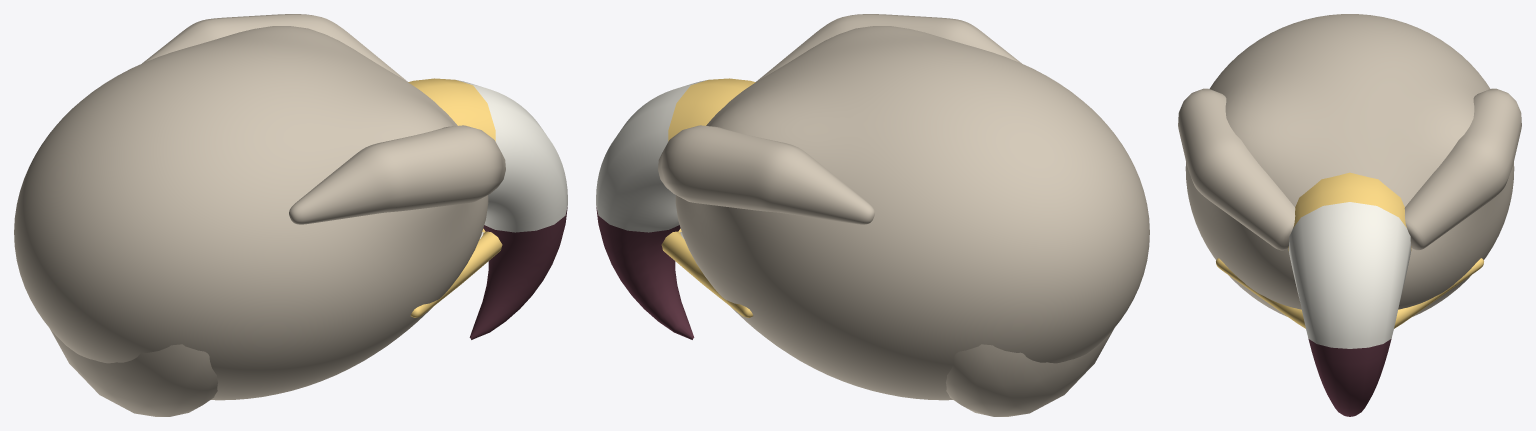
File: creature.raptorhead.glb
3 views of the same model, side by side, from view 1: azimuth 30°, elevation 25°; view 2: azimuth 150°, elevation 25°; view 3: azimuth 270°, elevation 25° (orthographic). The views are drawn at different scales.
Visible parts, largest first — view 1: Skin, Bone, Dark, Beak.001; view 2: Skin, Bone, Dark, Beak.001; view 3: Skin, Bone, Beak.001, Dark.
Boxes of the visible parts, box(x1,y1,x2,y2) form: Skin: box(14, 14, 505, 416); Bone: box(456, 80, 567, 260); Dark: box(469, 207, 567, 339); Beak.001: box(408, 78, 502, 317); Skin: box(658, 14, 1149, 416); Bone: box(596, 80, 707, 260); Dark: box(596, 207, 694, 339); Beak.001: box(661, 78, 755, 317); Skin: box(1178, 14, 1521, 316); Bone: box(1289, 202, 1410, 348); Beak.001: box(1216, 172, 1483, 328); Dark: box(1308, 339, 1391, 416).
Bounding box in the file's own units: 3.78 × 2.3 × 2.55.
